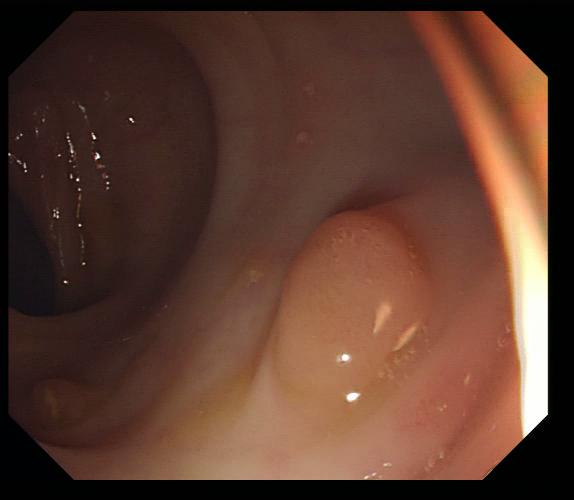polyp: (282, 204, 432, 434), (17, 373, 103, 424), (287, 122, 318, 149), (238, 261, 269, 288), (299, 77, 326, 101)
